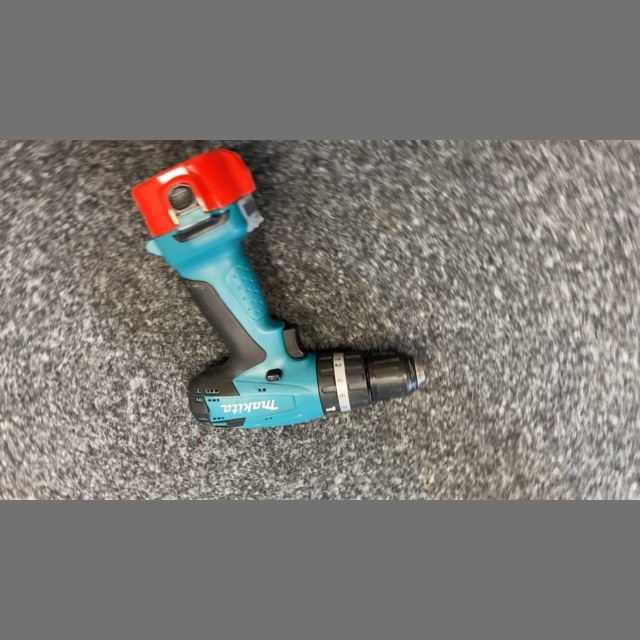drill: (124, 142, 435, 435)
